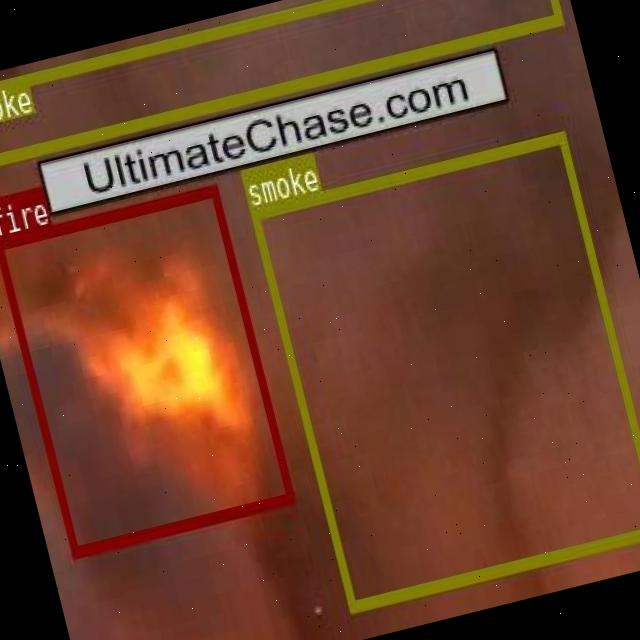fire: (0, 182, 294, 556)
smoke: (248, 128, 640, 609), (0, 0, 560, 167)
